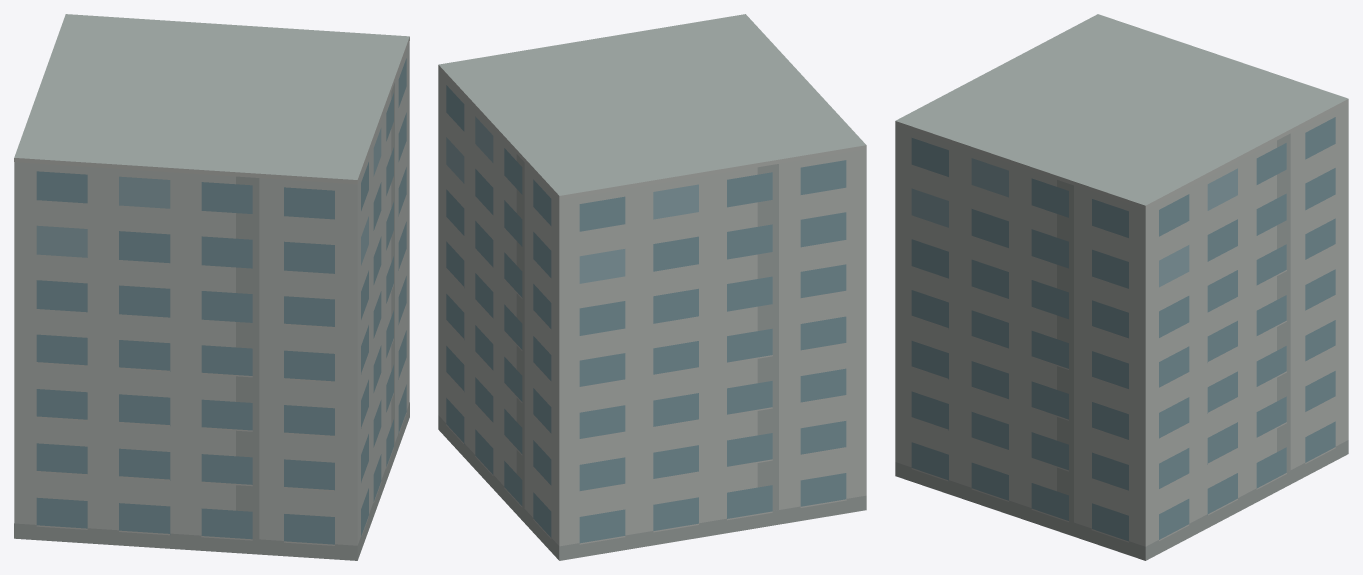
Rendered from residential-35a93d8f-412e-4b28-b101-f51da60022e9.glb.
3 renders of one model, left to right at view 1: azimuth 30°, elevation 25°; view 2: azimuth 150°, elevation 25°; view 3: azimuth 270°, elevation 25°, orthographic. The views are drawn at different scales.
Parts seen in each view (by area): view 1: residential-35a93d8f-412e-4b28-b101-f51da60022e9.tmp; view 2: residential-35a93d8f-412e-4b28-b101-f51da60022e9.tmp; view 3: residential-35a93d8f-412e-4b28-b101-f51da60022e9.tmp.
Boxes of the visible parts, <box> form: residential-35a93d8f-412e-4b28-b101-f51da60022e9.tmp: <box>14,14,409,560</box>; residential-35a93d8f-412e-4b28-b101-f51da60022e9.tmp: <box>438,14,866,560</box>; residential-35a93d8f-412e-4b28-b101-f51da60022e9.tmp: <box>895,14,1348,560</box>.
Size of the model in its own units: 24.72 by 21.35 by 24.71.
